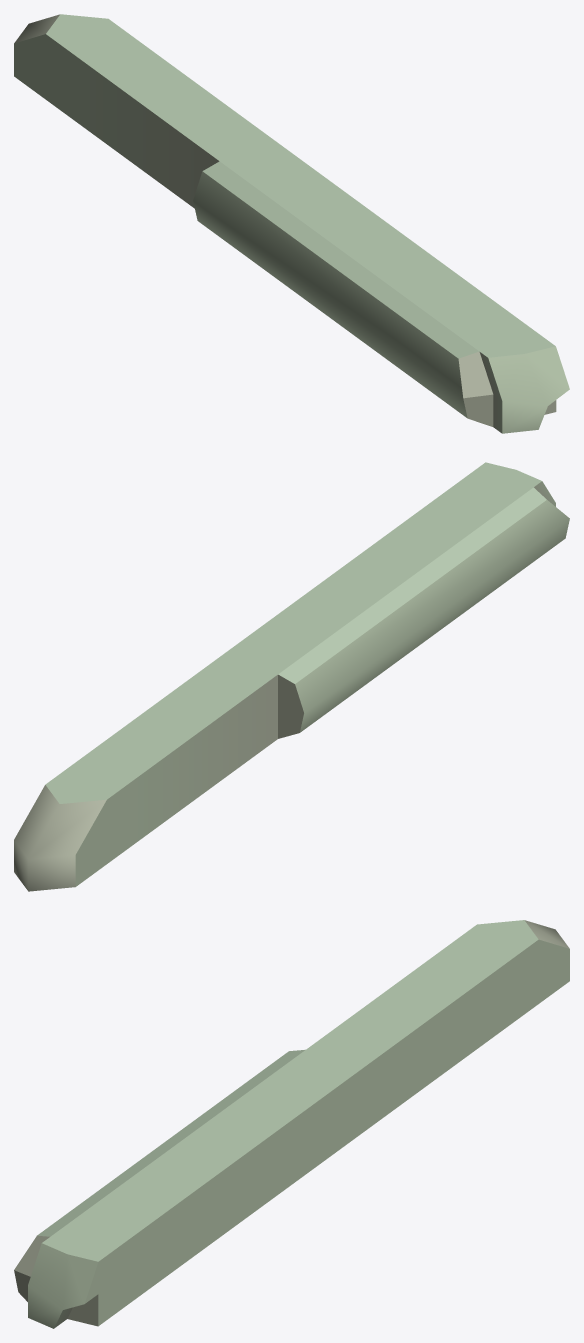
File: geology-crystals-crystalshard_v5.glb
3 renders of one model, top to bottom at view 1: azimuth 30°, elevation 25°; view 2: azimuth 150°, elevation 25°; view 3: azimuth 330°, elevation 25°, orthographic.
Visible parts, largest first — view 1: CrystalShard_v5; view 2: CrystalShard_v5; view 3: CrystalShard_v5.
Part boxes in pixels (box(x1,y1,x2,y2)): CrystalShard_v5: box(14, 14, 569, 433); CrystalShard_v5: box(14, 462, 569, 891); CrystalShard_v5: box(14, 920, 569, 1328).
Size of the model in its own units: 1.56 by 1.1 by 15.44.
